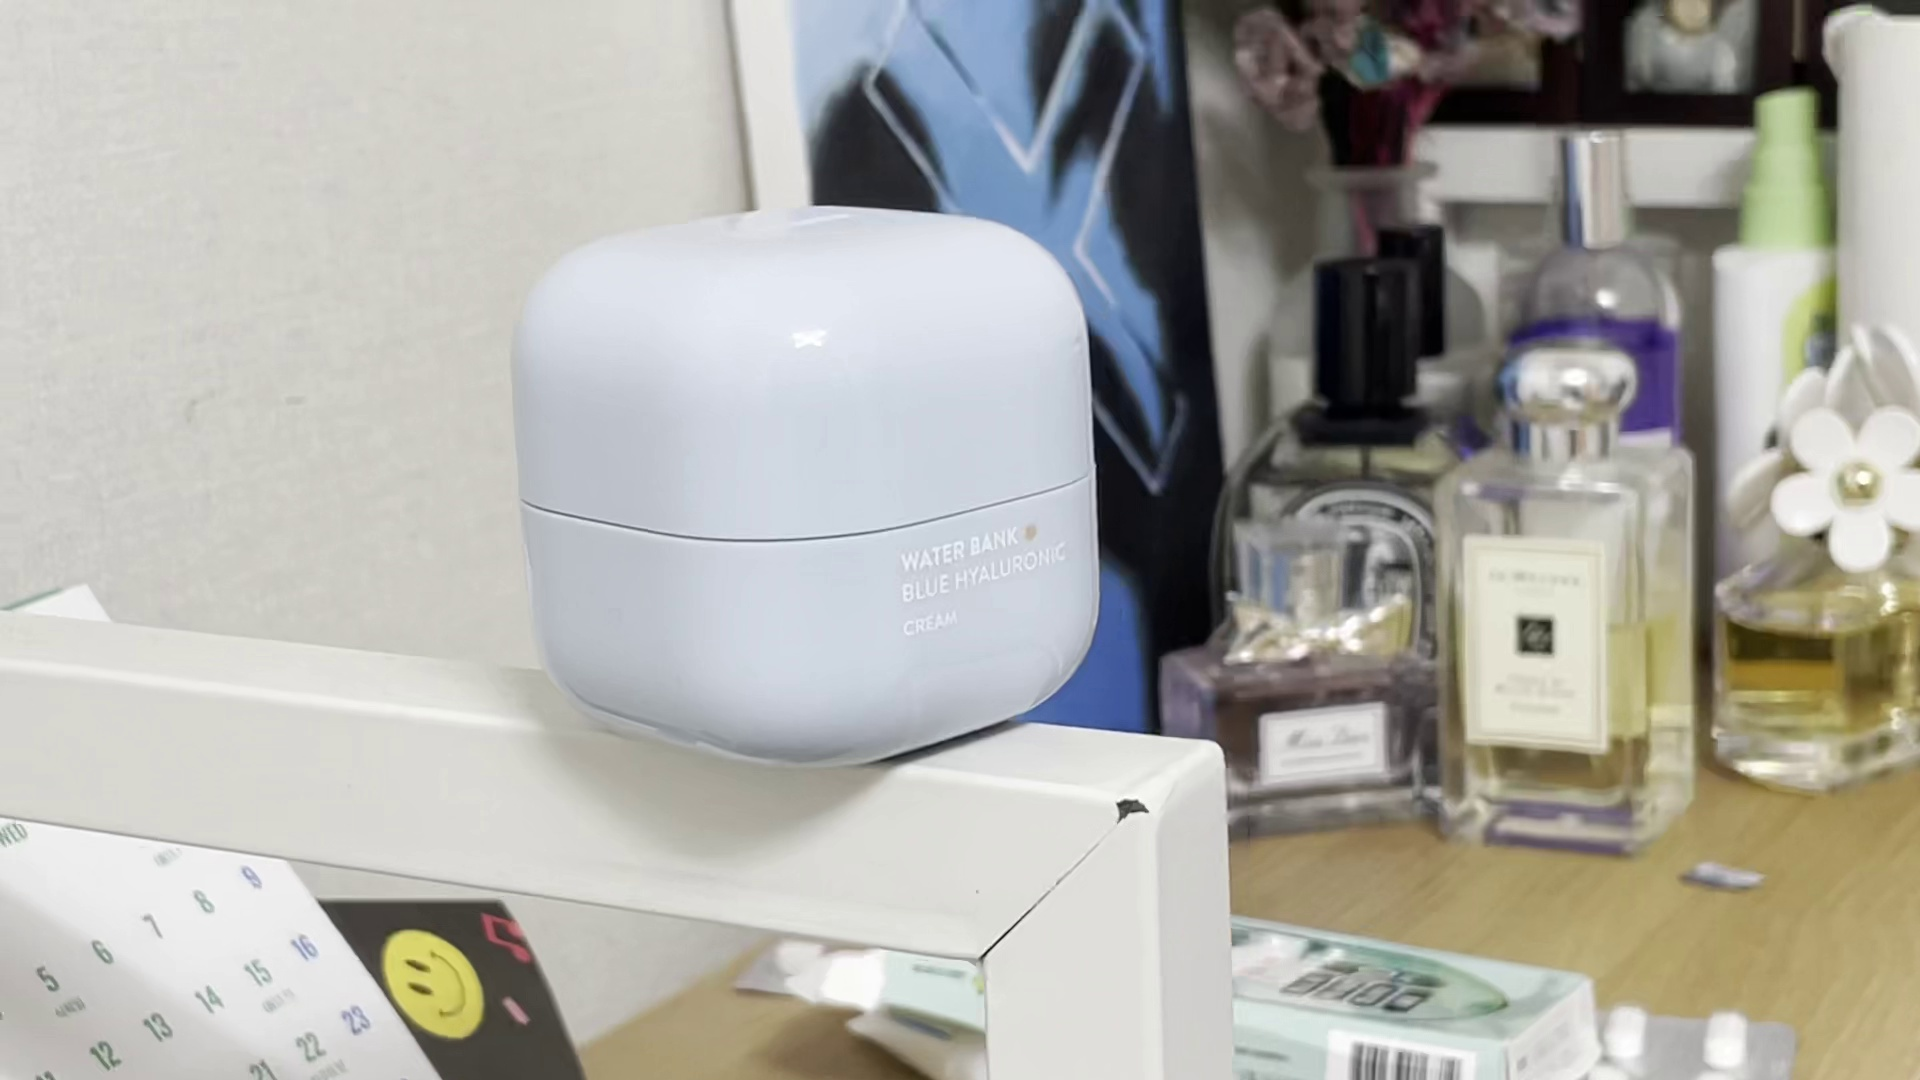cream: (498, 204, 1105, 766)
